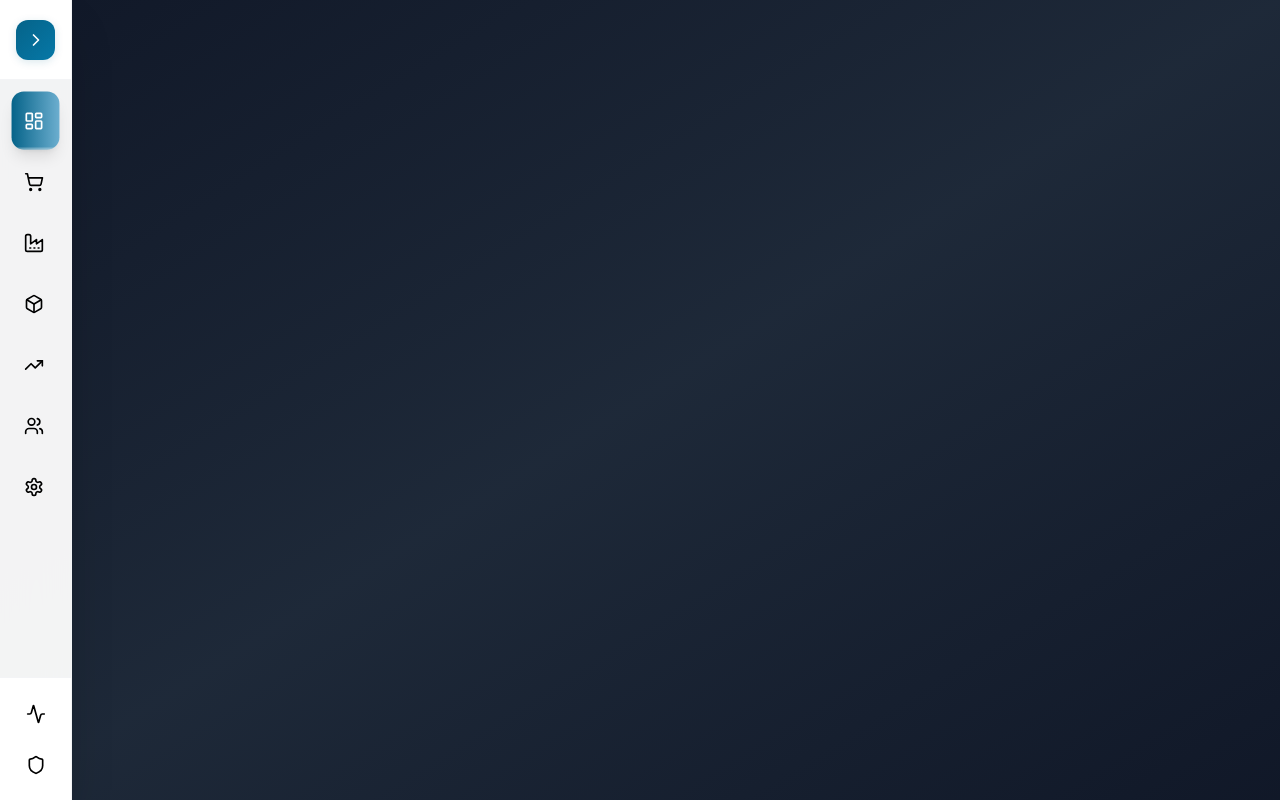
Test: Sidebar Component › Collapse/Expand Functionality › should toggle expand state when expand button is clicked
Click the button named "Expand sidebar" at (36, 40), box [16,20,55,60]
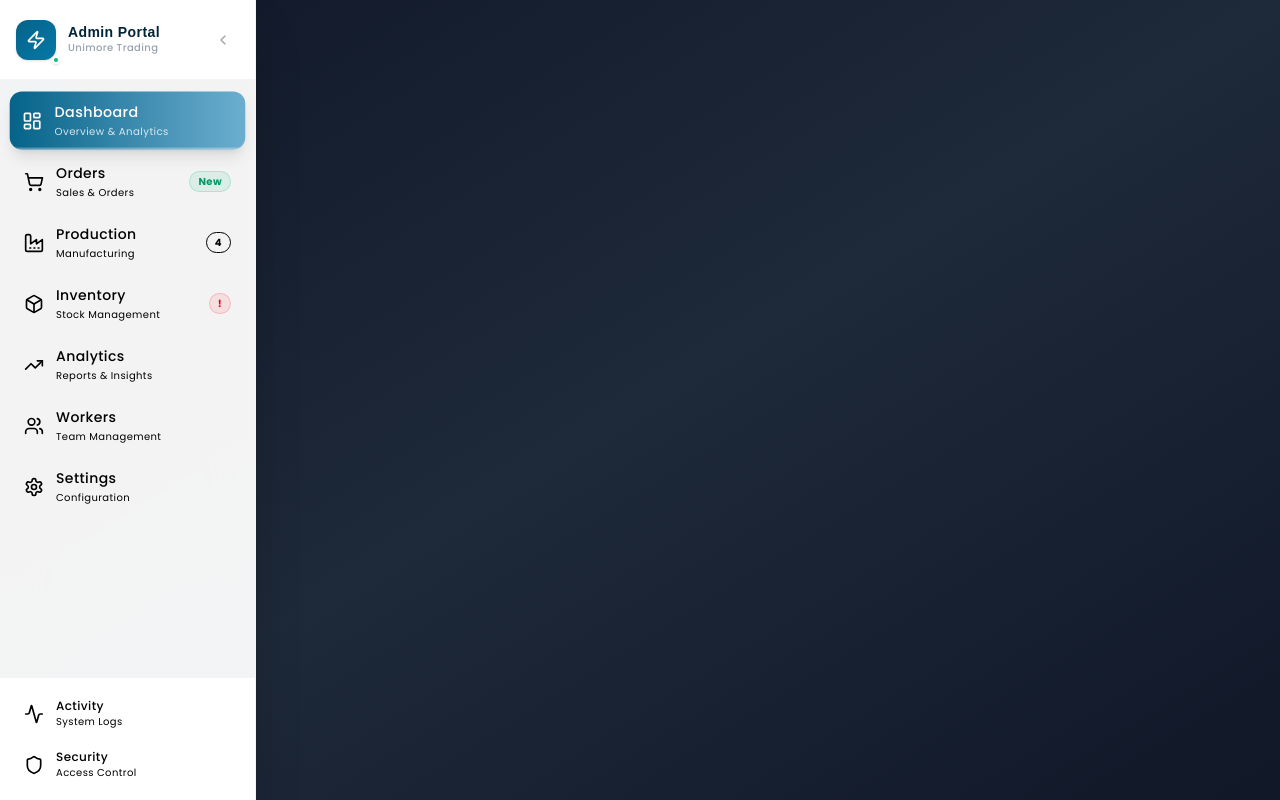
Expected: the button named "Collapse sidebar" is shown, [207,24,239,56]
